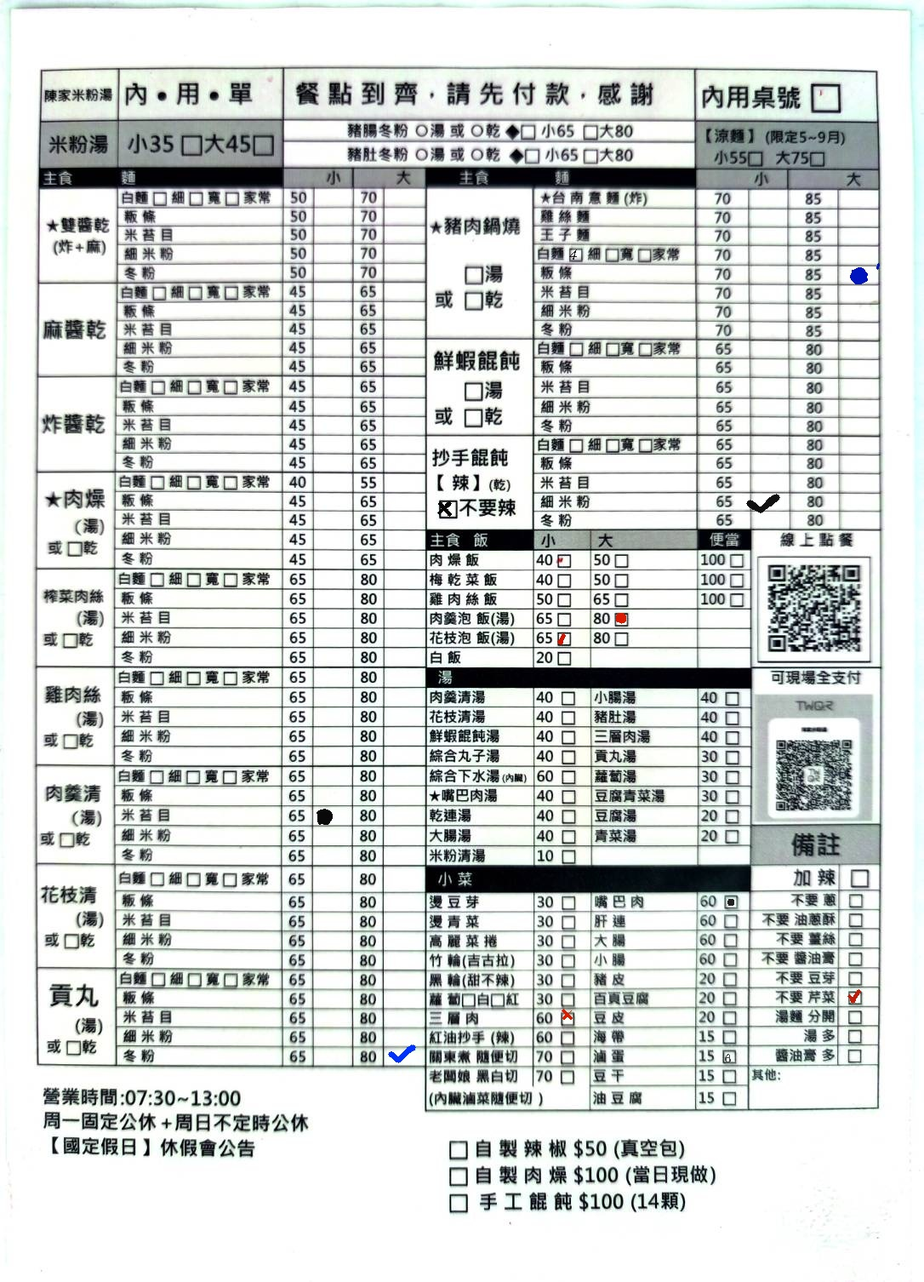marked_circle: (313, 806, 351, 826), (840, 264, 877, 283), (616, 613, 627, 625), (726, 896, 737, 907)
marked_number_4: (570, 248, 581, 260)
marked_number_6: (723, 1050, 734, 1062)
marked_tick: (386, 1047, 424, 1067), (752, 492, 790, 512), (849, 991, 860, 1003), (558, 632, 569, 644)
marked_x: (438, 501, 457, 518), (562, 1013, 573, 1025)
